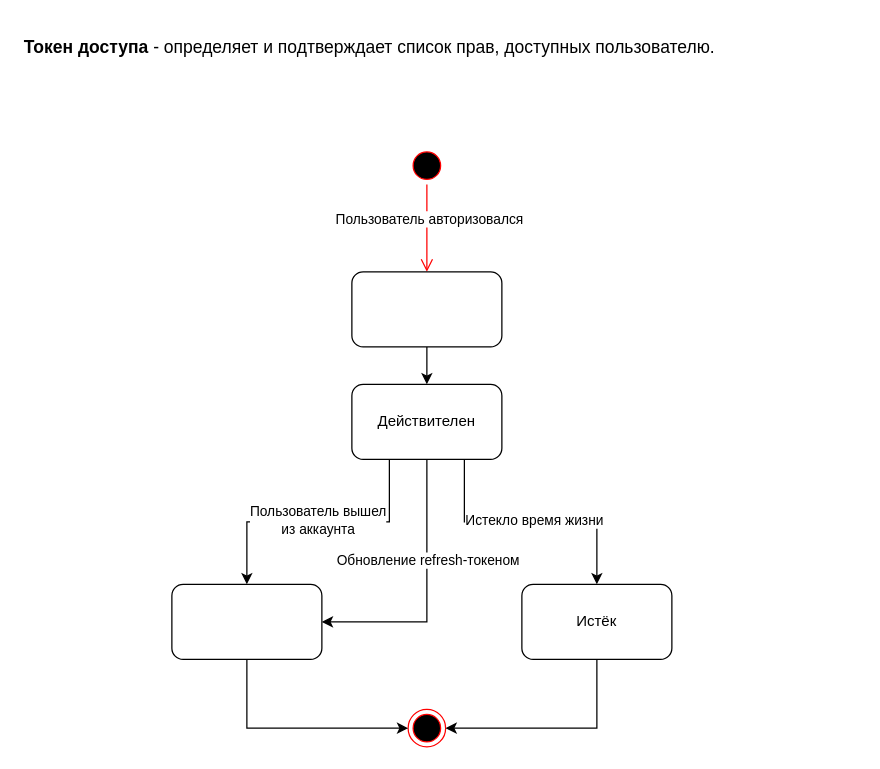
The diagram is 880 pixels wide and 769 high, and some of its shapes have lost their labels. The shapes that lost their labels are listed below. From the top down, each one's centre as x and y in pixels, then its label:
At [426,309]: "Сгенерирован".
At [246,621]: "Отозван".
